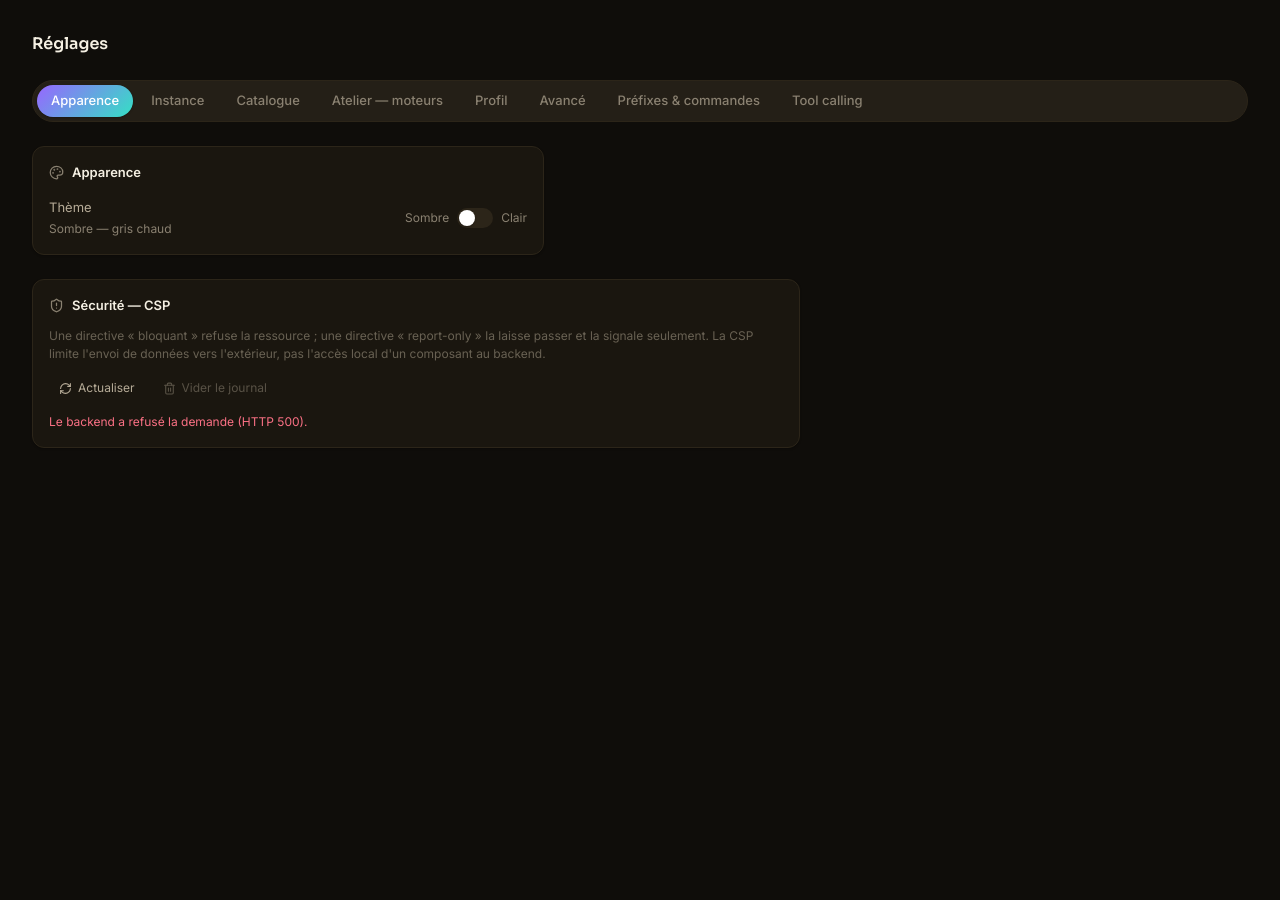
Scenario: Réglages — barre d’onglets en pilule › le drag-and-drop des modules de l'onglet Instance fonctionne toujours
The width and height of the screenshot is (1280, 900).
Click the button "Instance" at (178, 101), box [137, 85, 218, 116]
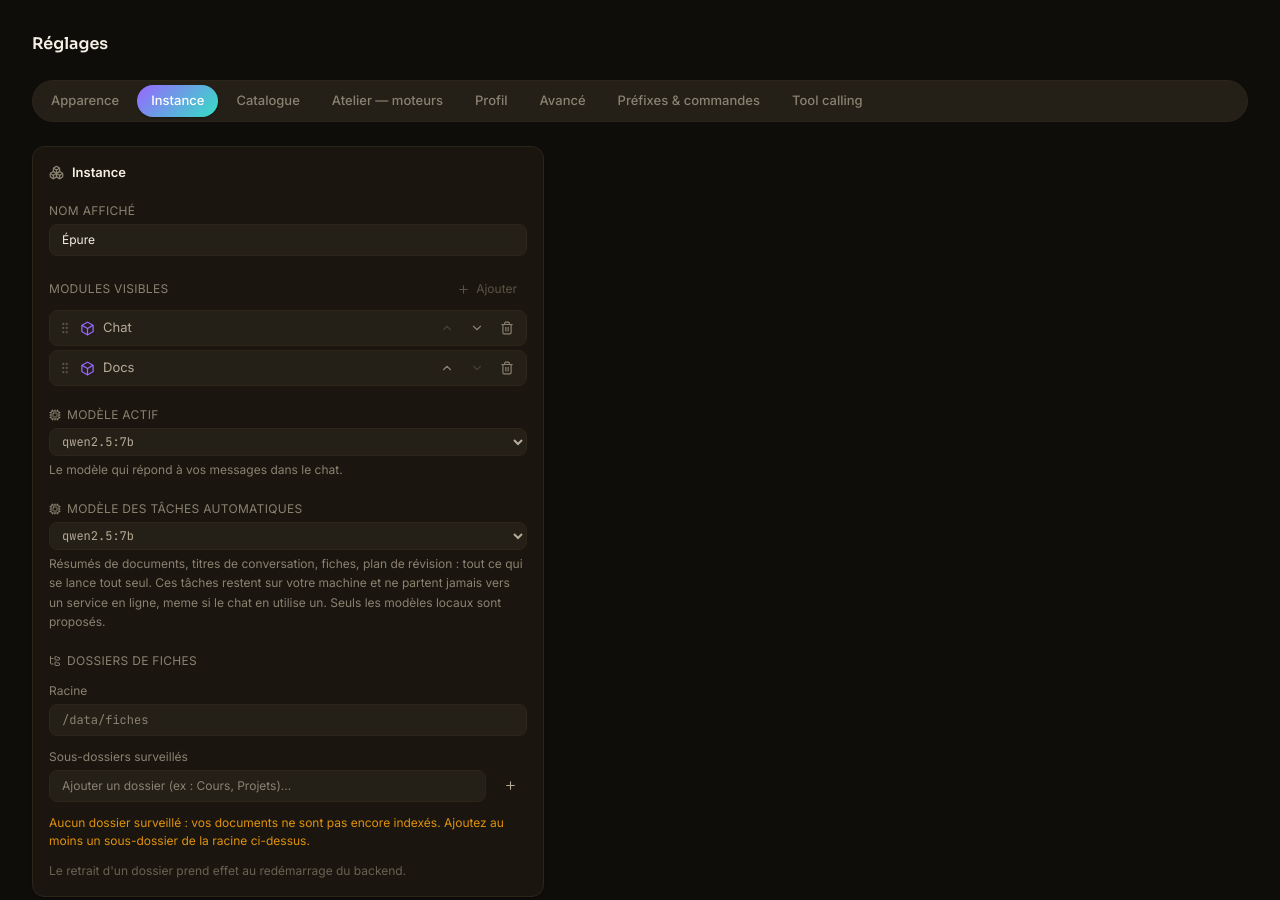
Expected: the text "Chat" is shown, [49, 310, 527, 346]
Expected: the text "Docs" is shown, [49, 350, 527, 386]
